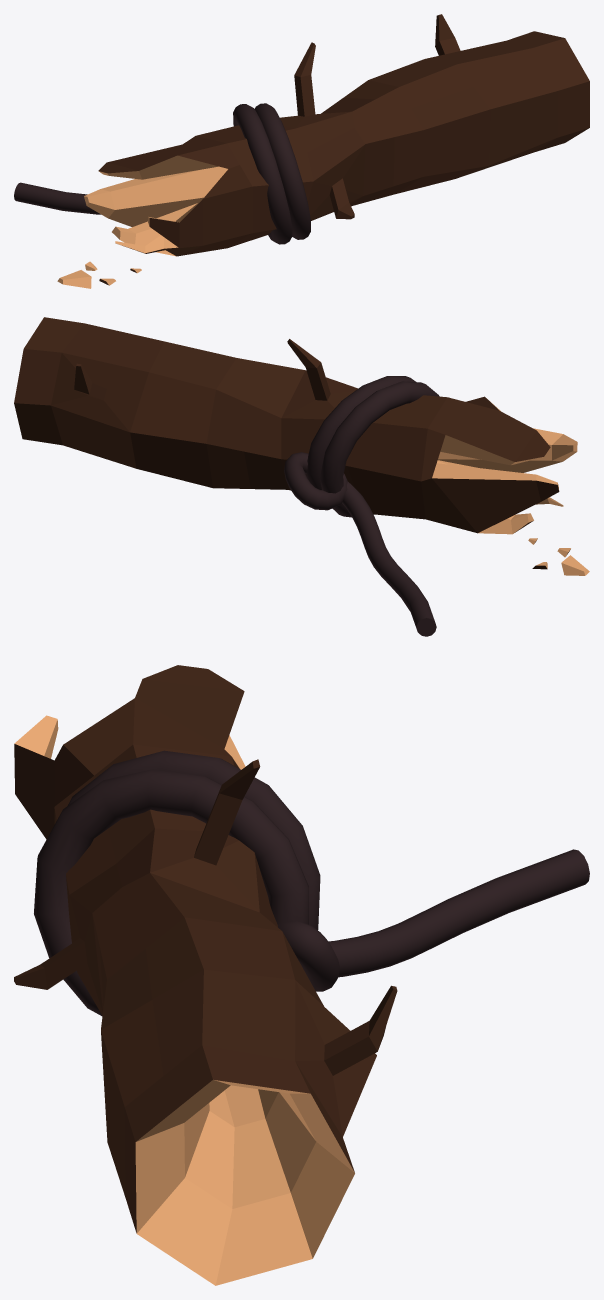
The model's file is LOG1.fbx.
The picture shows the model from 3 angles, top to bottom: view 1: azimuth 30°, elevation 25°; view 2: azimuth 150°, elevation 25°; view 3: azimuth 270°, elevation 25°; orthographic projection. The views are drawn at different scales.
Visible parts, largest first — view 1: Polygon.002, BezierCircle; view 2: Polygon.002, BezierCircle; view 3: Polygon.002, BezierCircle.
Boxes of the visible parts, x1,y1,x2,y2 form: Polygon.002: (57,14,589,288); BezierCircle: (14,103,310,244); Polygon.002: (14,317,589,575); BezierCircle: (284,376,439,636); Polygon.002: (14,665,397,1285); BezierCircle: (34,750,589,1016).
Bounding box in the file's own units: 1748 × 549 × 872.
